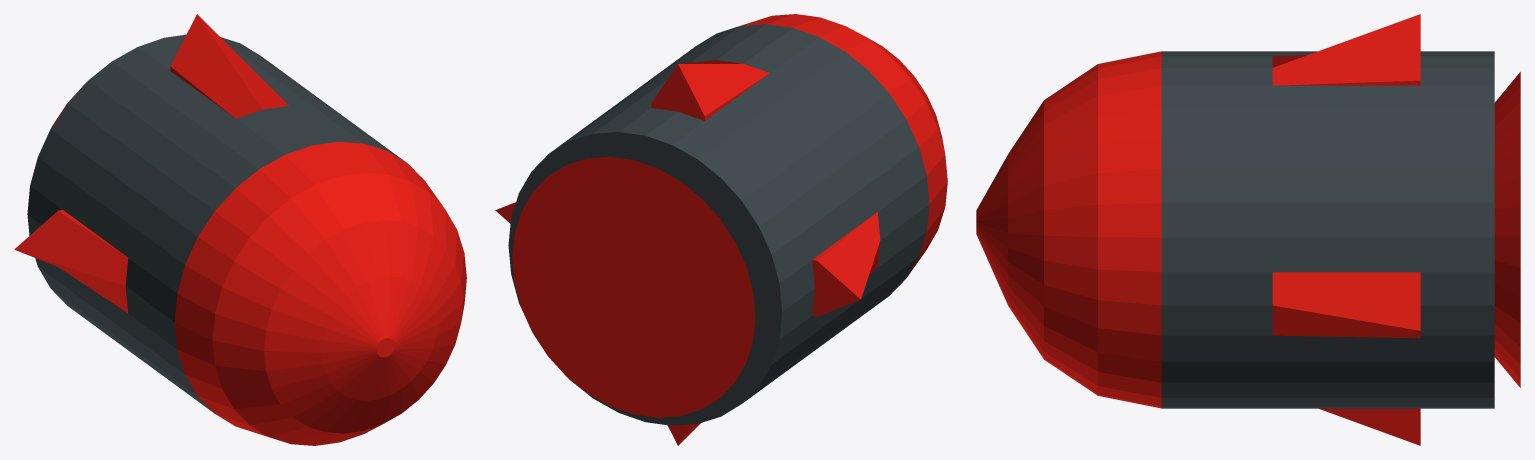
The model's file is Rocket.fbx.
The picture shows the model from 3 angles, left to right: view 1: azimuth 30°, elevation 25°; view 2: azimuth 150°, elevation 25°; view 3: azimuth 270°, elevation 25°; orthographic projection. The views are drawn at different scales.
Parts seen in each view (by area): view 1: Cylinder; view 2: Cylinder; view 3: Cylinder.
Boxes of the visible parts, left/top/right/bottom form: Cylinder: left=14, top=14, right=466, bottom=445; Cylinder: left=495, top=14, right=947, bottom=445; Cylinder: left=976, top=14, right=1520, bottom=445.
Bounding box in the file's own units: 267 × 267 × 304.
